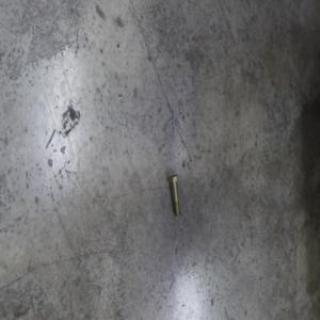Bolttrack_idkeyframe: (168, 174, 181, 218)
